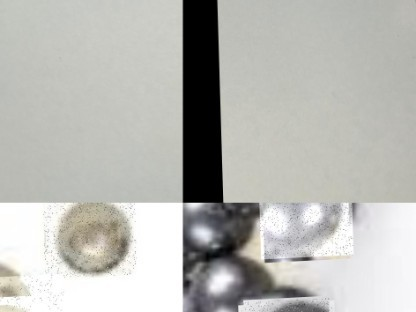ironball: (41, 202, 135, 279), (257, 202, 352, 260), (182, 258, 271, 310), (184, 202, 257, 254), (0, 274, 63, 311)
